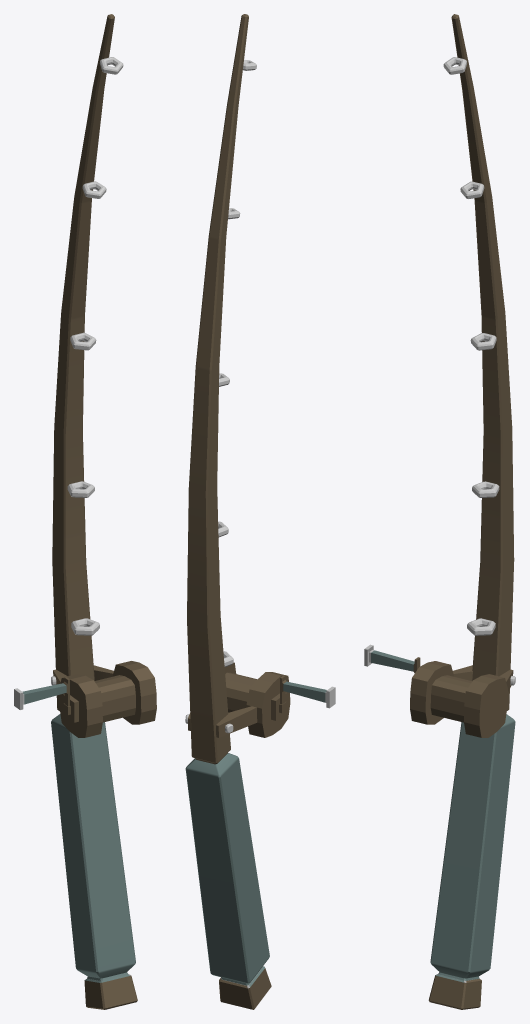
Rendered from RodMaterials.fbx.
3 views of the same model, side by side, from view 1: azimuth 30°, elevation 25°; view 2: azimuth 150°, elevation 25°; view 3: azimuth 330°, elevation 25° (orthographic).
Parts seen in each view (by area): view 1: Rod; view 2: Rod; view 3: Rod.
Boxes of the visible parts, x1,y1,x2,y2 form: Rod: (14, 14, 156, 1009); Rod: (185, 14, 335, 1009); Rod: (364, 14, 515, 1009).
Size of the model in its own units: 28.36 by 214 by 23.02.
